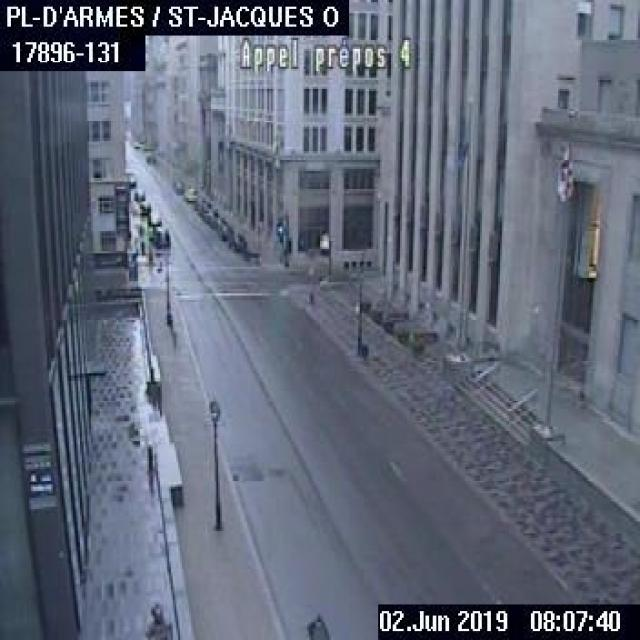vehicle: (228, 228, 245, 248), (152, 225, 168, 245), (147, 210, 160, 224), (183, 186, 196, 199), (137, 200, 149, 213), (171, 180, 182, 192), (132, 188, 143, 198), (144, 152, 154, 162)
